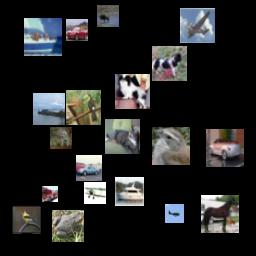airplane: (180, 8, 215, 43), (84, 182, 106, 204), (165, 204, 184, 223)
automobile: (206, 129, 244, 167), (76, 155, 102, 181), (66, 19, 88, 41)
bird: (152, 127, 190, 165), (66, 90, 101, 125), (12, 205, 41, 234)
cat: (105, 119, 140, 154)
deer: (97, 5, 119, 27)
dog: (152, 46, 187, 81), (115, 74, 150, 109), (50, 127, 72, 149)
frog: (52, 210, 84, 242)
ship: (24, 18, 62, 56), (33, 93, 65, 125), (115, 177, 144, 206)
truck: (42, 186, 58, 202)
